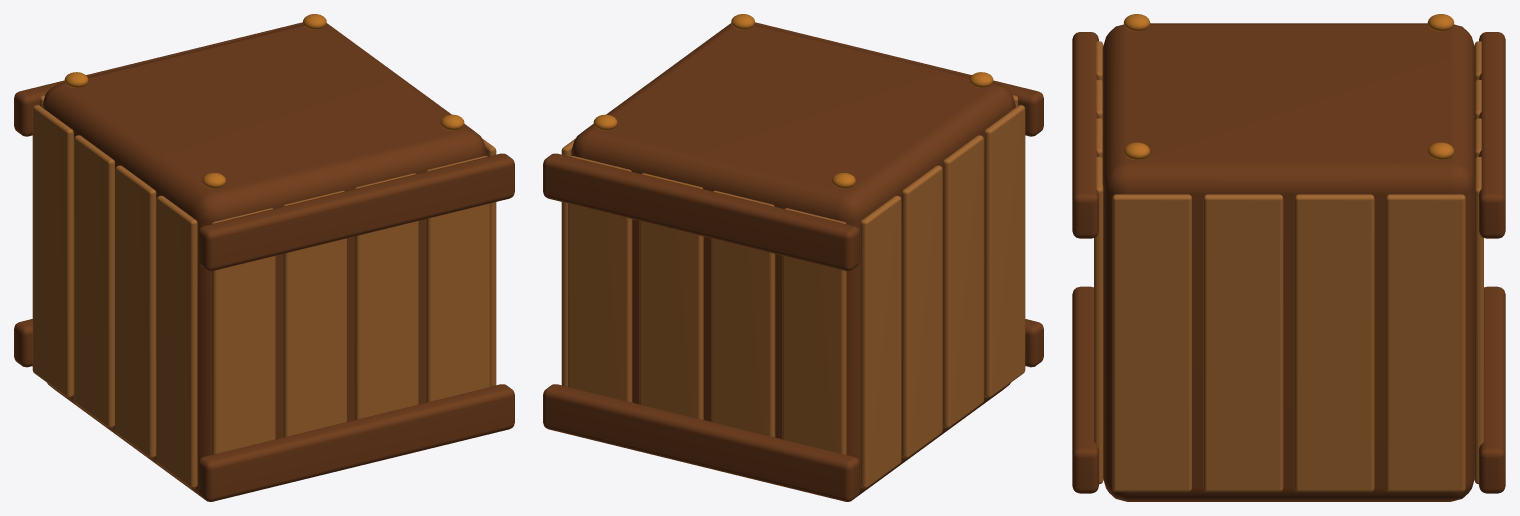
File: push_crate.glb
3 views of the same model, side by side, from view 1: azimuth 30°, elevation 25°; view 2: azimuth 150°, elevation 25°; view 3: azimuth 270°, elevation 25° (orthographic). The views are drawn at different scales.
Visible parts, largest first — view 1: push_crate, crate_front_brace.001, crate_front_brace, crate_front_plank, crate_front_plank.003, crate_front_plank.001, crate_front_plank.002, crate_side_plank, crate_side_plank.001, crate_side_plank.003, crate_side_plank.002, crate_front_brace.003 (+2 smaller); view 2: push_crate, crate_front_brace.003, crate_front_brace.002, crate_front_plank.004, crate_front_plank.007, crate_front_plank.005, crate_front_plank.006, crate_side_plank.003, crate_side_plank.002, crate_side_plank, crate_side_plank.001, crate_front_brace.001 (+2 smaller); view 3: push_crate, crate_side_plank.005, crate_side_plank.006, crate_side_plank.004, crate_side_plank.007, crate_front_brace.001, crate_front_brace.003, crate_front_brace, crate_front_brace.002, crate_front_plank.003, crate_front_plank.007.
Part boxes in pixels (x1=…): push_crate: x1=42, y1=23, x2=486, y2=495; crate_front_brace.001: x1=198, y1=153, x2=514, y2=271; crate_front_brace: x1=198, y1=384, x2=514, y2=501; crate_front_plank: x1=211, y1=208, x2=275, y2=454; crate_front_plank.003: x1=425, y1=156, x2=489, y2=402; crate_front_plank.001: x1=282, y1=190, x2=346, y2=437; crate_front_plank.002: x1=354, y1=173, x2=418, y2=419; crate_side_plank: x1=156, y1=195, x2=197, y2=488; crate_side_plank.001: x1=115, y1=165, x2=156, y2=458; crate_side_plank.003: x1=32, y1=105, x2=73, y2=397; crate_side_plank.002: x1=74, y1=135, x2=114, y2=427; crate_front_brace.003: x1=14, y1=22, x2=303, y2=136; push_crate: x1=571, y1=23, x2=1015, y2=495; crate_front_brace.003: x1=543, y1=153, x2=859, y2=271; crate_front_brace.002: x1=543, y1=384, x2=859, y2=501; crate_front_plank.004: x1=782, y1=208, x2=846, y2=454; crate_front_plank.007: x1=568, y1=156, x2=632, y2=402; crate_front_plank.005: x1=711, y1=190, x2=775, y2=437; crate_front_plank.006: x1=639, y1=173, x2=703, y2=419; crate_side_plank.003: x1=860, y1=195, x2=901, y2=488; crate_side_plank.002: x1=901, y1=165, x2=942, y2=458; crate_side_plank: x1=984, y1=105, x2=1025, y2=397; crate_side_plank.001: x1=943, y1=135, x2=983, y2=427; crate_front_brace.001: x1=754, y1=22, x2=1043, y2=136; push_crate: x1=1102, y1=23, x2=1475, y2=501; crate_side_plank.005: x1=1203, y1=194, x2=1283, y2=491; crate_side_plank.006: x1=1294, y1=194, x2=1374, y2=491; crate_side_plank.004: x1=1112, y1=194, x2=1191, y2=491; crate_side_plank.007: x1=1386, y1=194, x2=1465, y2=491; crate_front_brace.001: x1=1072, y1=32, x2=1098, y2=238; crate_front_brace.003: x1=1479, y1=32, x2=1505, y2=238; crate_front_brace: x1=1072, y1=286, x2=1098, y2=493; crate_front_brace.002: x1=1479, y1=286, x2=1505, y2=493; crate_front_plank.003: x1=1094, y1=157, x2=1103, y2=484; crate_front_plank.007: x1=1474, y1=157, x2=1483, y2=484.
Size of the model in its own units: 1.04 by 1.02 by 1.14.
